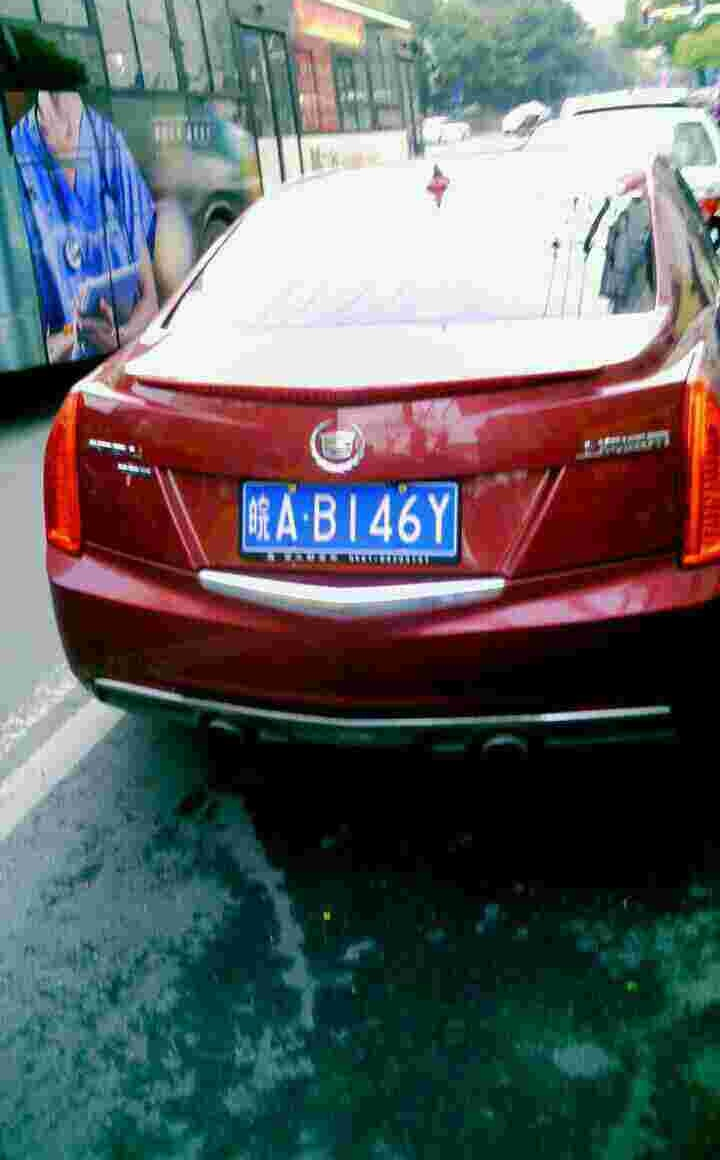license_plate: (252, 484, 452, 555)
